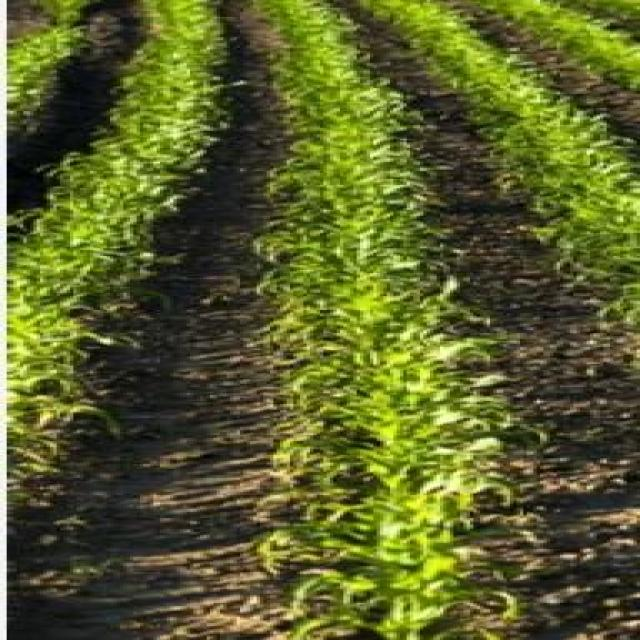row: (328, 1, 640, 640), (6, 0, 311, 640), (0, 0, 156, 247), (453, 0, 640, 167)
